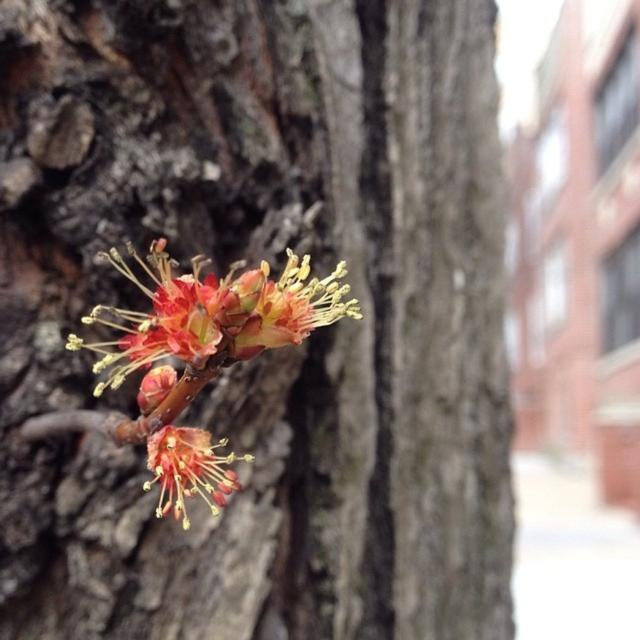Flower: (69, 215, 368, 549)
